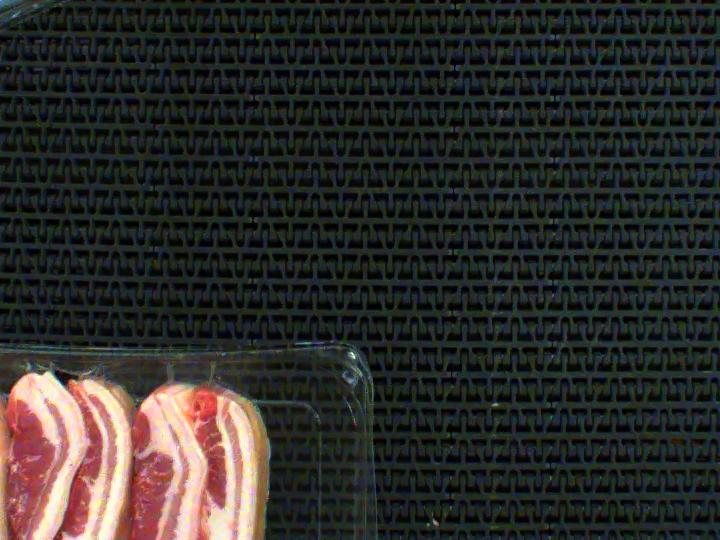packaging-error: (0, 320, 265, 430)
